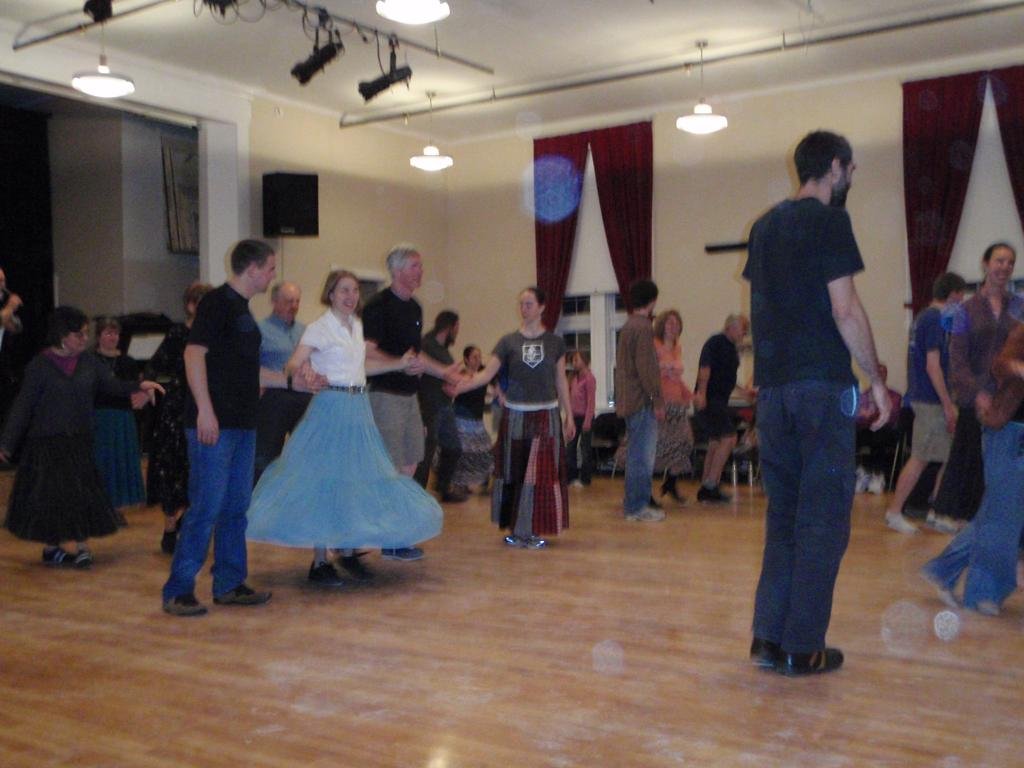face: (831, 157, 856, 202), (248, 259, 277, 293), (332, 278, 359, 312), (990, 249, 1014, 282), (397, 257, 422, 288), (63, 323, 87, 350), (277, 291, 299, 320), (519, 294, 540, 321), (99, 328, 119, 349), (664, 316, 679, 339), (468, 352, 482, 368), (573, 353, 583, 370)
